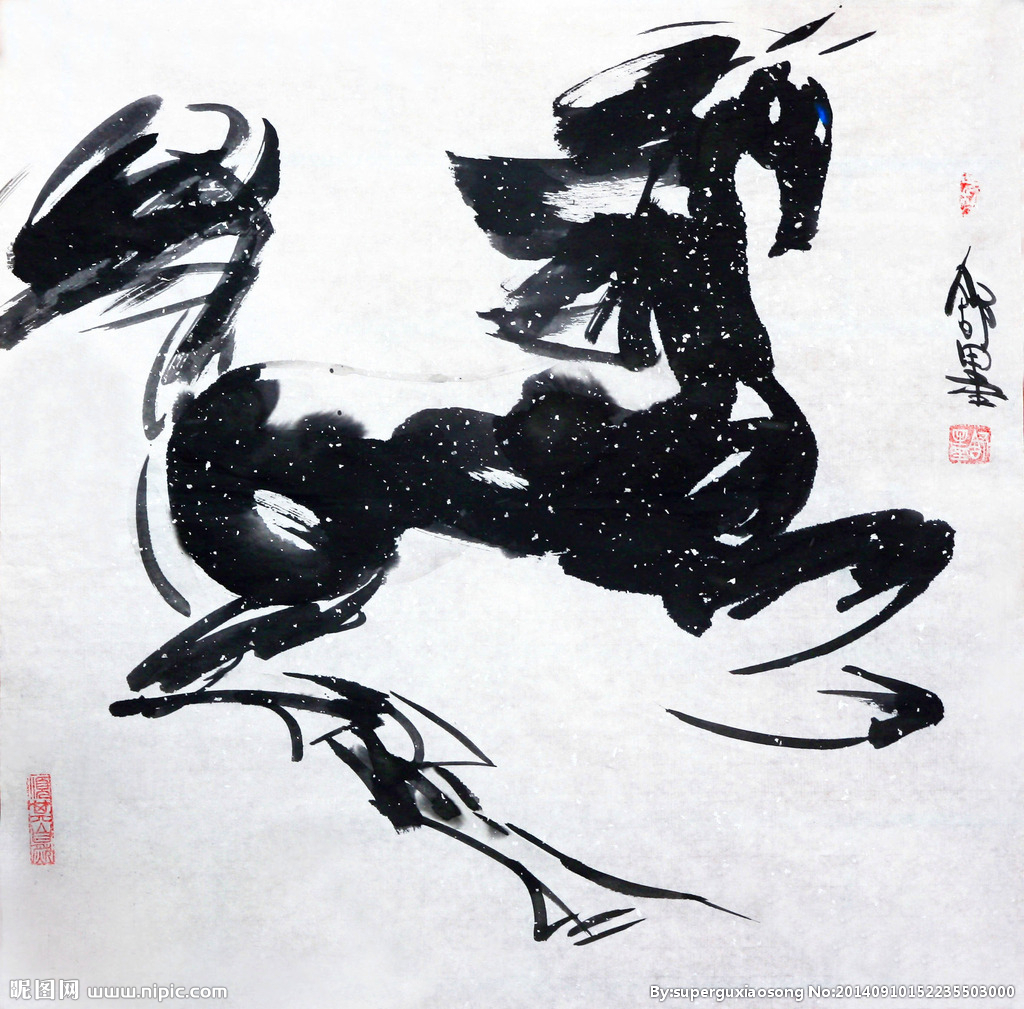background: (103, 34, 956, 950)
